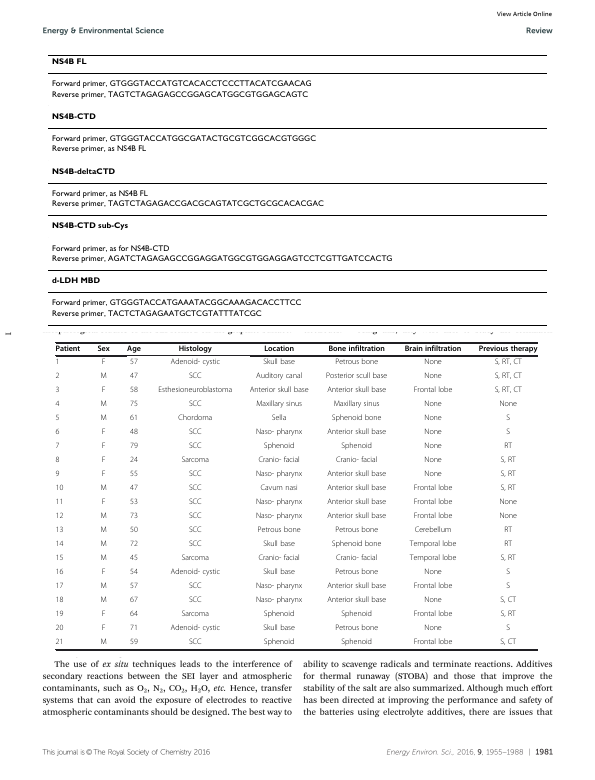borderless: (54, 341, 537, 649), (47, 53, 547, 325)
cell: (50, 254, 393, 264), (50, 199, 324, 209), (50, 134, 317, 144), (50, 90, 309, 100), (50, 80, 312, 89), (50, 299, 302, 308), (50, 309, 262, 319), (50, 244, 170, 254), (50, 189, 148, 199), (50, 145, 147, 154), (157, 386, 233, 396), (50, 222, 129, 231), (50, 167, 116, 177), (325, 372, 388, 382), (326, 386, 387, 396), (326, 428, 387, 438), (326, 470, 387, 480), (326, 484, 387, 494), (326, 498, 387, 508), (326, 512, 387, 522), (326, 582, 387, 592), (326, 596, 387, 606), (249, 386, 309, 396), (478, 345, 538, 354), (327, 345, 386, 354), (404, 345, 462, 354), (169, 358, 221, 368), (169, 568, 221, 578), (169, 624, 221, 634), (331, 414, 382, 424), (331, 540, 382, 550), (255, 372, 303, 382), (255, 400, 303, 410), (255, 428, 303, 438), (255, 470, 303, 480), (255, 498, 303, 508), (255, 512, 303, 522), (409, 540, 457, 550), (409, 554, 457, 564), (255, 582, 303, 592), (255, 596, 303, 606), (333, 400, 380, 410), (50, 112, 96, 122), (50, 277, 100, 286), (334, 358, 379, 368), (334, 526, 379, 536), (334, 568, 379, 578), (334, 624, 379, 634), (257, 456, 301, 466), (257, 526, 301, 536), (257, 554, 301, 564), (335, 456, 378, 466), (335, 554, 378, 564), (413, 386, 453, 396), (259, 484, 299, 494), (413, 484, 453, 494), (413, 498, 453, 508), (413, 512, 453, 522), (413, 582, 453, 592), (413, 610, 453, 620), (413, 638, 453, 648), (414, 526, 452, 536), (177, 414, 213, 424), (262, 358, 296, 368), (262, 540, 296, 550), (262, 568, 296, 578), (262, 624, 296, 634), (50, 58, 87, 67), (340, 442, 373, 452), (340, 610, 373, 620), (340, 638, 373, 648), (263, 442, 295, 452), (263, 610, 295, 620), (263, 638, 295, 648), (178, 345, 213, 354), (180, 456, 210, 466), (180, 554, 210, 564), (180, 610, 210, 620), (494, 358, 523, 368), (494, 372, 523, 382), (494, 386, 523, 396), (263, 345, 295, 354), (55, 345, 81, 354), (423, 358, 443, 368), (423, 372, 443, 382), (423, 400, 443, 410), (498, 400, 518, 410), (423, 414, 443, 424), (423, 428, 443, 438), (423, 442, 443, 452), (423, 456, 443, 466), (423, 470, 443, 480), (498, 498, 518, 508), (498, 512, 518, 522), (423, 568, 443, 578), (423, 596, 443, 606), (423, 624, 443, 634), (499, 596, 517, 606), (499, 638, 517, 648), (500, 456, 517, 466), (500, 470, 517, 480), (500, 484, 517, 494), (500, 554, 517, 564), (500, 610, 517, 620), (271, 414, 287, 424), (126, 345, 142, 354), (188, 372, 202, 382), (188, 400, 202, 410), (188, 428, 202, 438), (188, 442, 202, 452), (188, 470, 202, 480), (188, 484, 202, 494), (188, 498, 202, 508), (188, 512, 202, 522), (188, 526, 202, 536), (188, 540, 202, 550), (188, 582, 202, 592), (188, 596, 202, 606), (188, 638, 202, 648), (96, 345, 111, 354), (129, 358, 139, 368), (129, 372, 139, 382), (129, 386, 139, 396), (129, 400, 139, 410), (129, 414, 139, 424), (129, 428, 139, 438), (129, 442, 139, 452), (503, 442, 513, 452), (129, 456, 139, 466), (129, 470, 139, 480), (129, 484, 139, 494), (129, 498, 139, 508), (129, 512, 139, 522), (129, 526, 139, 536), (503, 526, 513, 536), (129, 540, 139, 550), (503, 540, 513, 550), (129, 554, 139, 564), (129, 568, 139, 578), (129, 582, 139, 592), (129, 596, 139, 606), (129, 610, 139, 620), (129, 624, 139, 634), (129, 638, 139, 648), (99, 372, 108, 382), (99, 400, 108, 410), (99, 414, 108, 424), (55, 484, 64, 494), (99, 484, 108, 494), (55, 498, 64, 508), (55, 512, 64, 522), (99, 512, 108, 522), (55, 526, 64, 536), (99, 526, 108, 536), (55, 540, 64, 550), (99, 540, 108, 550), (55, 554, 64, 564), (99, 554, 108, 564), (55, 568, 64, 578), (55, 582, 64, 592), (99, 582, 108, 592), (55, 596, 64, 606), (99, 596, 108, 606), (55, 610, 64, 620), (55, 624, 64, 634), (55, 638, 64, 648), (99, 638, 108, 648), (505, 414, 511, 424), (505, 428, 511, 438), (505, 568, 511, 578), (505, 582, 511, 592), (505, 624, 511, 634), (55, 358, 60, 368), (101, 358, 106, 368), (55, 372, 60, 382), (55, 386, 60, 396), (101, 386, 106, 396), (55, 400, 60, 410), (55, 414, 60, 424), (55, 428, 60, 438), (101, 428, 106, 438), (55, 442, 60, 452), (101, 442, 106, 452), (55, 456, 60, 466), (101, 456, 106, 466), (55, 470, 60, 480), (101, 470, 106, 480), (101, 498, 106, 508), (101, 568, 106, 578), (101, 610, 106, 620), (101, 624, 106, 634)
